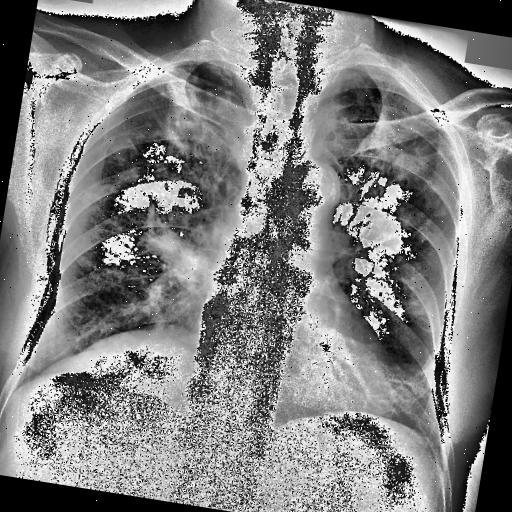13- Pulmonary fibrosis: (324, 78, 472, 240), (108, 50, 252, 204), (108, 62, 254, 202), (344, 72, 459, 194), (350, 115, 460, 242), (155, 62, 264, 154), (375, 352, 459, 444)
4- Consolidation: (131, 212, 215, 290)
6- Infiltration: (108, 62, 254, 202), (350, 115, 460, 242)
7- Lung Opacity: (364, 348, 448, 435), (384, 360, 432, 404)
9- Other lesion: (44, 308, 192, 400), (141, 227, 210, 275)
